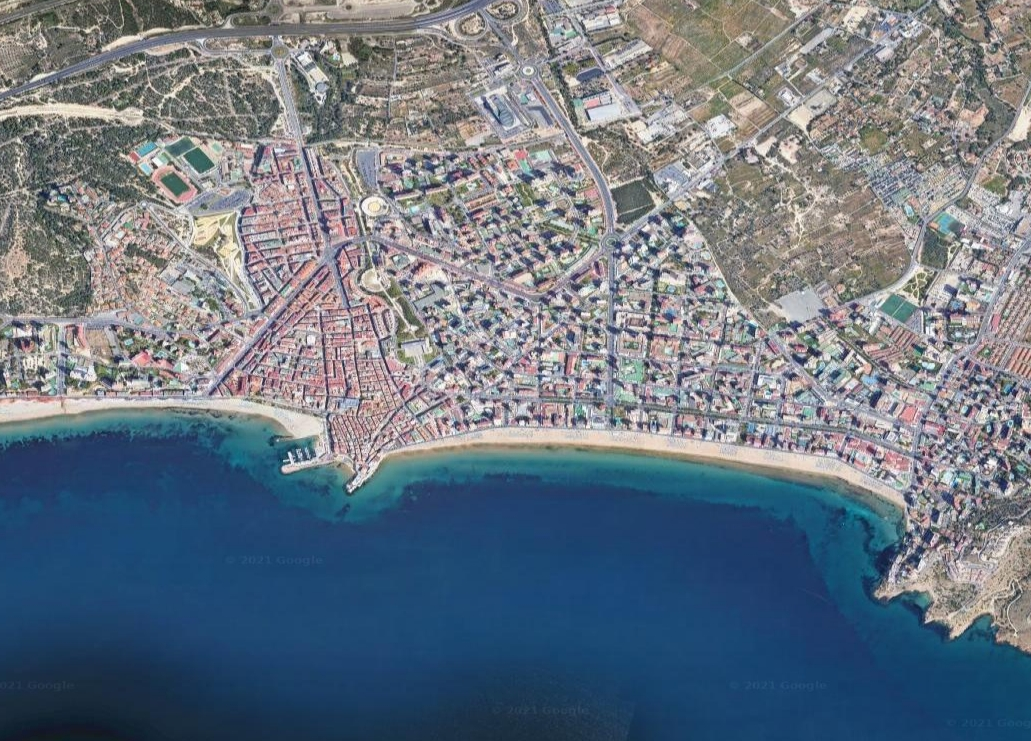harbor: (277, 418, 389, 509)
industrial: (543, 3, 641, 130)
motorway: (284, 1, 528, 48), (118, 10, 285, 55), (1, 47, 122, 98)
